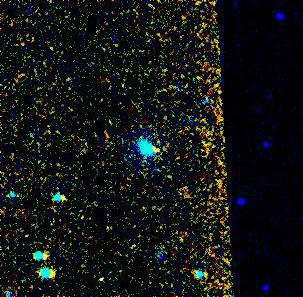star: (143, 136, 173, 166)
